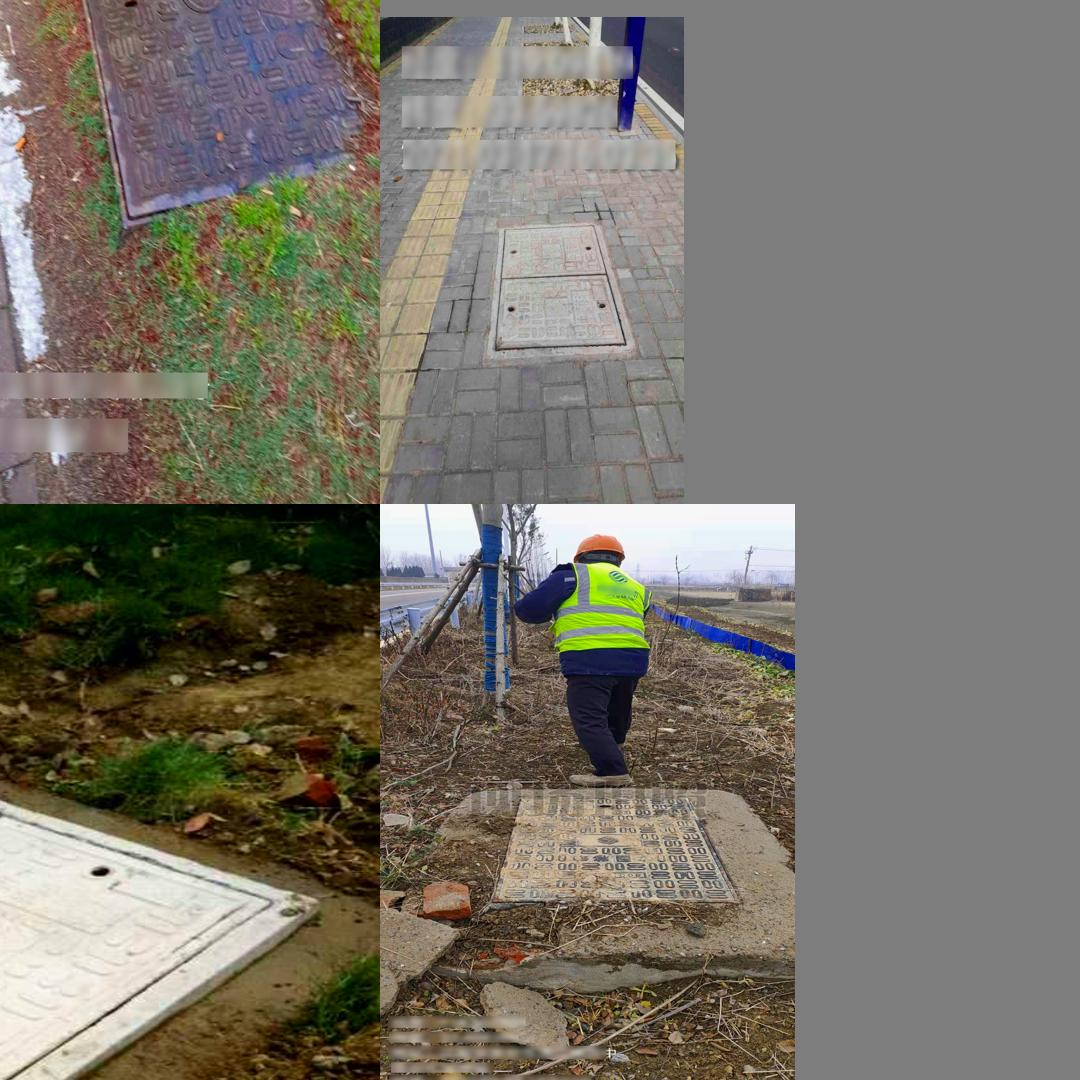good: (0, 731, 324, 1080), (58, 0, 364, 226), (492, 793, 744, 904), (485, 221, 637, 356)
